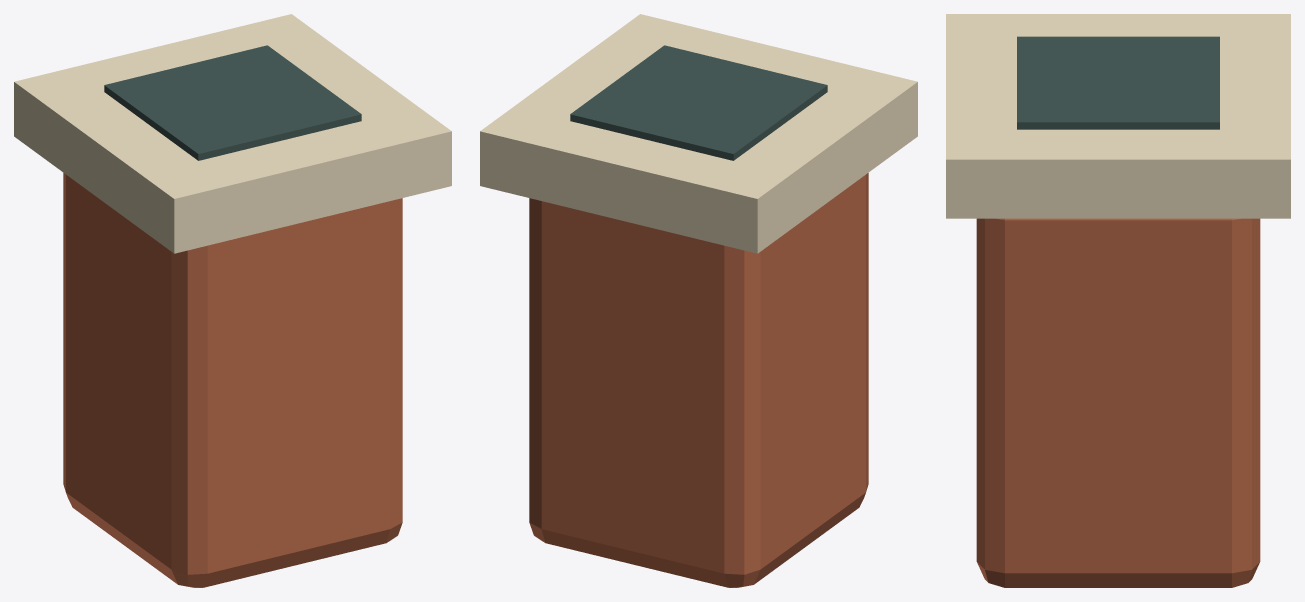
Rendered from tpe5_roof_chimney.glb.
3 views of the same model, side by side, from view 1: azimuth 30°, elevation 25°; view 2: azimuth 150°, elevation 25°; view 3: azimuth 270°, elevation 25° (orthographic). The views are drawn at different scales.
Parts seen in each view (by area): view 1: tpe5_roof_chimney__tpe5-street-cinnabar, tpe5_roof_chimney__tpe5-street-ivory, tpe5_roof_chimney__tpe5-street-ink; view 2: tpe5_roof_chimney__tpe5-street-cinnabar, tpe5_roof_chimney__tpe5-street-ivory, tpe5_roof_chimney__tpe5-street-ink; view 3: tpe5_roof_chimney__tpe5-street-cinnabar, tpe5_roof_chimney__tpe5-street-ivory, tpe5_roof_chimney__tpe5-street-ink.
Part boxes in pixels (x1,y1,x2,y2): tpe5_roof_chimney__tpe5-street-cinnabar: (63,173,402,587); tpe5_roof_chimney__tpe5-street-ivory: (14,14,451,253); tpe5_roof_chimney__tpe5-street-ink: (104,45,361,160); tpe5_roof_chimney__tpe5-street-cinnabar: (529,173,868,587); tpe5_roof_chimney__tpe5-street-ivory: (480,14,917,253); tpe5_roof_chimney__tpe5-street-ink: (570,45,827,160); tpe5_roof_chimney__tpe5-street-cinnabar: (976,218,1260,587); tpe5_roof_chimney__tpe5-street-ivory: (946,14,1290,218); tpe5_roof_chimney__tpe5-street-ink: (1017,36,1219,129).
Bounding box in the file's own units: 0.85 × 1.25 × 0.85.
